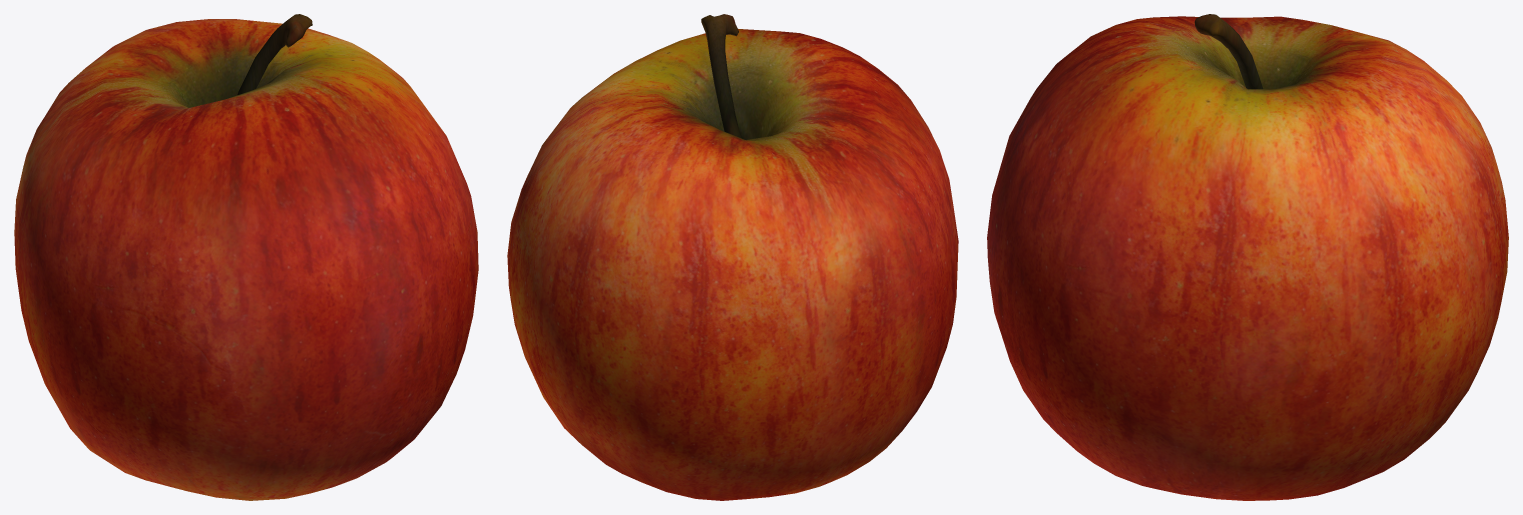
The model's file is apple-transformed.glb.
The picture shows the model from 3 angles, left to right: view 1: azimuth 30°, elevation 25°; view 2: azimuth 150°, elevation 25°; view 3: azimuth 270°, elevation 25°; orthographic projection. The views are drawn at different scales.
Parts seen in each view (by area): view 1: apple_low_obj_Material #35_0; view 2: apple_low_obj_Material #35_0; view 3: apple_low_obj_Material #35_0.
Part boxes in pixels (x1,y1,x2,y2): apple_low_obj_Material #35_0: [14, 14, 478, 500]; apple_low_obj_Material #35_0: [507, 14, 958, 500]; apple_low_obj_Material #35_0: [987, 14, 1508, 500].
Bounding box in the file's own units: 3.82 × 4 × 4.11.
Materials: 1 (1 with a texture image).
